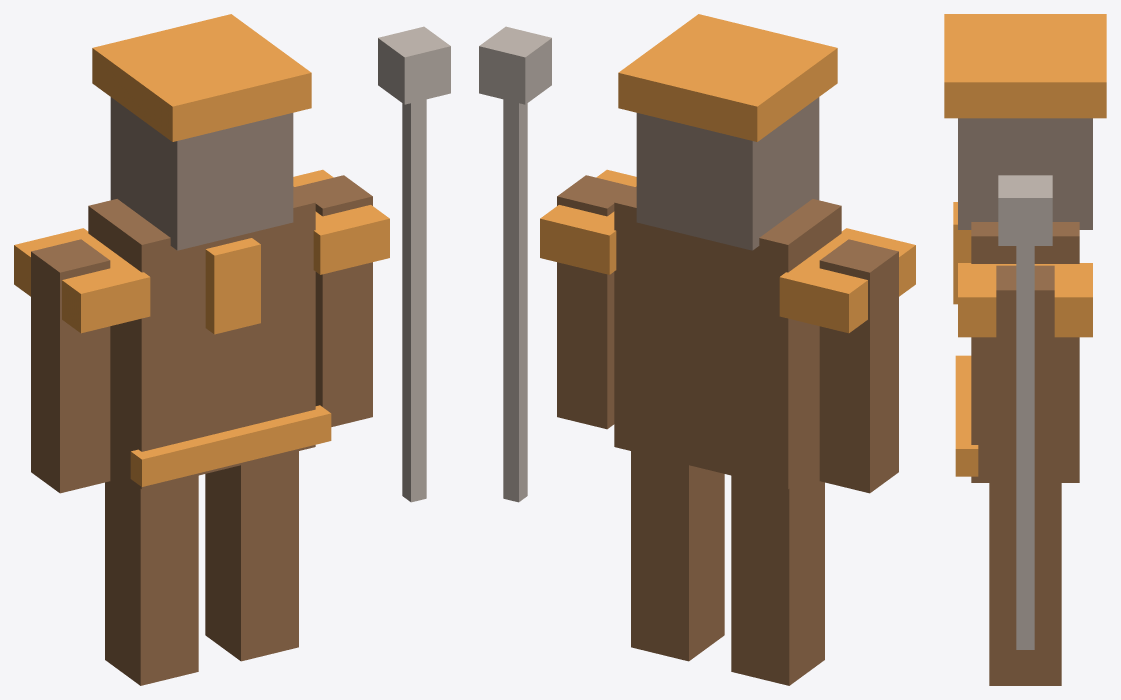
Rendered from 05_cassian_whispercoil_smith_from_sculpture.glb.
3 renders of one model, left to right at view 1: azimuth 30°, elevation 25°; view 2: azimuth 150°, elevation 25°; view 3: azimuth 270°, elevation 25°, orthographic.
Visible parts, largest first — view 1: Cassian Whispercoil, Smith from Sculpture; view 2: Cassian Whispercoil, Smith from Sculpture; view 3: Cassian Whispercoil, Smith from Sculpture.
Part boxes in pixels (bbox=[...]): Cassian Whispercoil, Smith from Sculpture: bbox=[14, 14, 450, 685]; Cassian Whispercoil, Smith from Sculpture: bbox=[479, 14, 915, 685]; Cassian Whispercoil, Smith from Sculpture: bbox=[944, 14, 1106, 685].
Bounding box in the file's own units: 1.03 × 1.49 × 0.3662.
